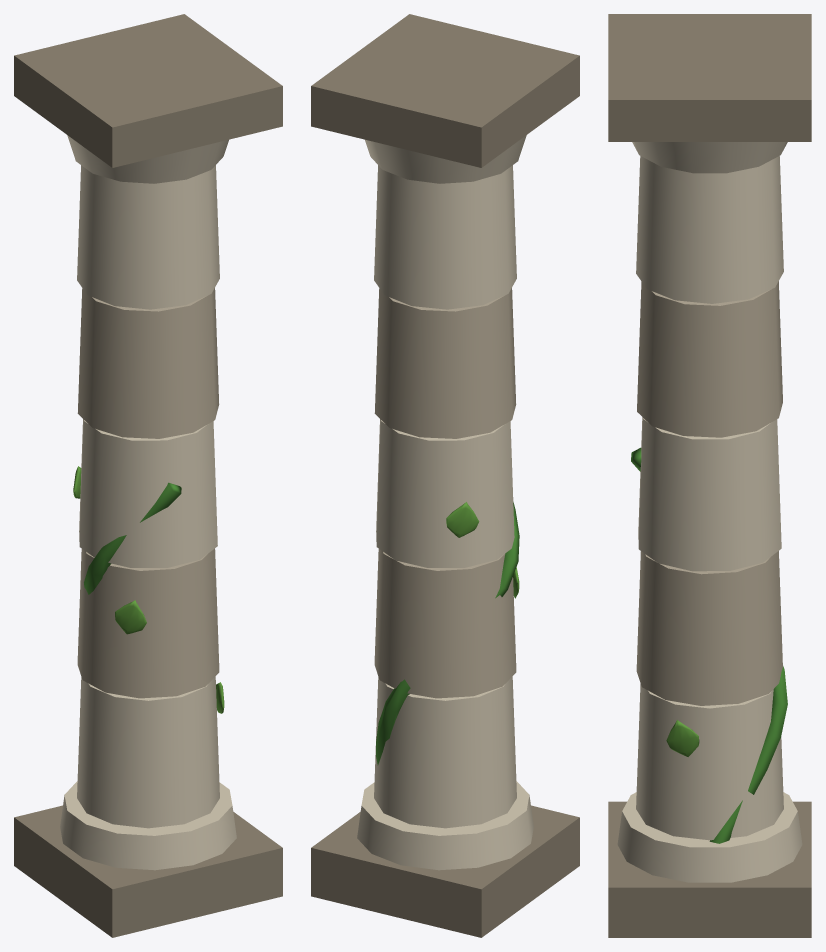
File: RuinPillar.glb
The picture shows the model from 3 angles, left to right: view 1: azimuth 30°, elevation 25°; view 2: azimuth 150°, elevation 25°; view 3: azimuth 270°, elevation 25°; orthographic projection. The views are drawn at different scales.
Visible parts, largest first — view 1: Body; view 2: Body; view 3: Body.
Boxes of the visible parts, x1=… form: Body: x1=14, y1=14, x2=282, y2=937; Body: x1=311, y1=14, x2=579, y2=937; Body: x1=608, y1=14, x2=811, y2=937.
Size of the model in its own units: 2.2 by 10 by 2.2.
1 material, 1 textured.
